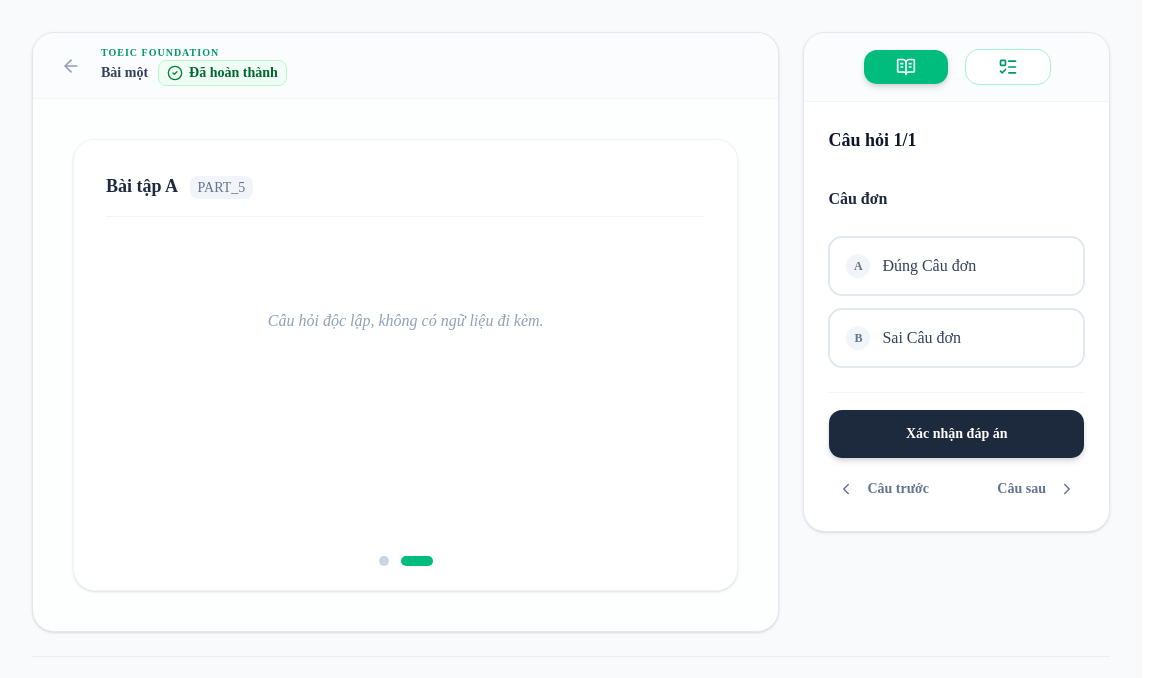
Test: D4 topic completion UI › shows stored completion in the header and sidebar and promotes the next topic
Expected: the text "Đã hoàn thành" is shown, [158, 60, 287, 86]
Click the button named "Mở danh sách chương và bài học" at point(1008, 67), box [965, 49, 1051, 85]
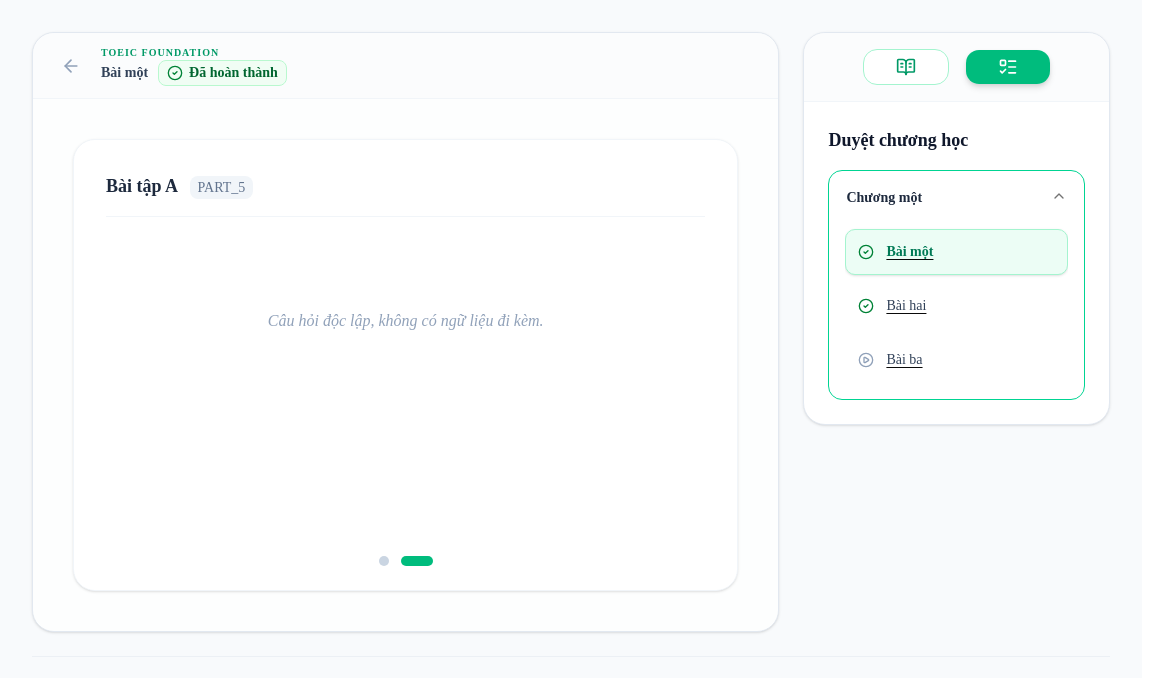
Result: the link "Bài một" is shown at [845, 229, 1068, 275]
Result: the link "Bài hai" is shown at [858, 297, 1016, 314]
Result: the link "Bài ba" is shown at [858, 352, 923, 368]
